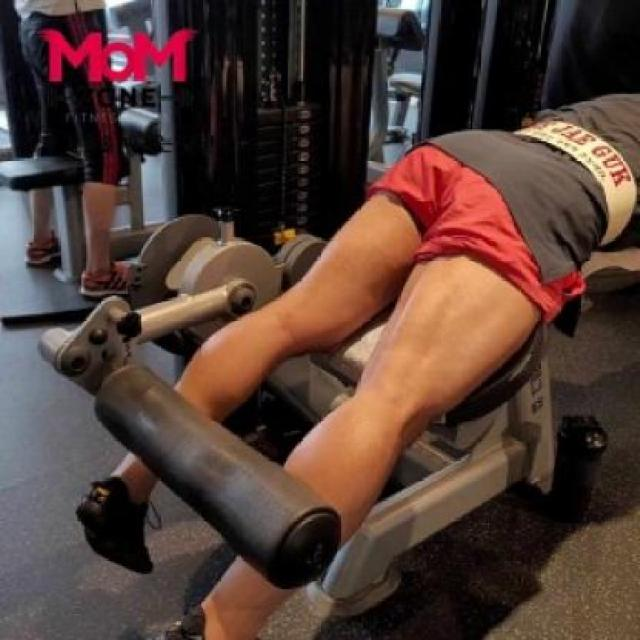reg curl machine: (35, 0, 640, 640)
